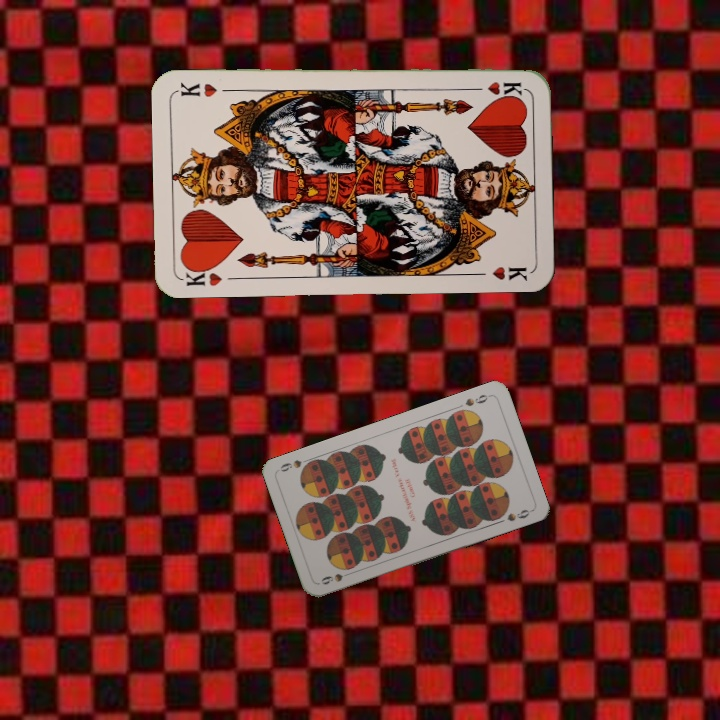HK: (466, 77, 525, 98), (180, 262, 224, 289)
S9: (317, 567, 356, 587), (461, 390, 493, 409)
